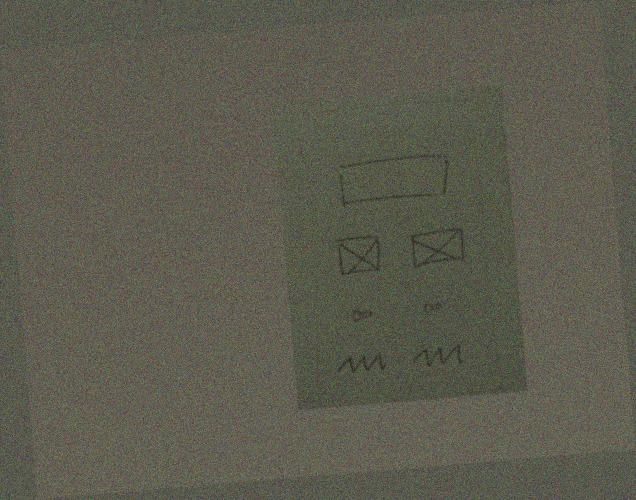image: (404, 226, 474, 274), (329, 233, 387, 280)
switch: (346, 304, 382, 327), (417, 298, 451, 320)
text: (407, 340, 474, 375), (331, 347, 396, 383)
text_input: (332, 153, 457, 209)
